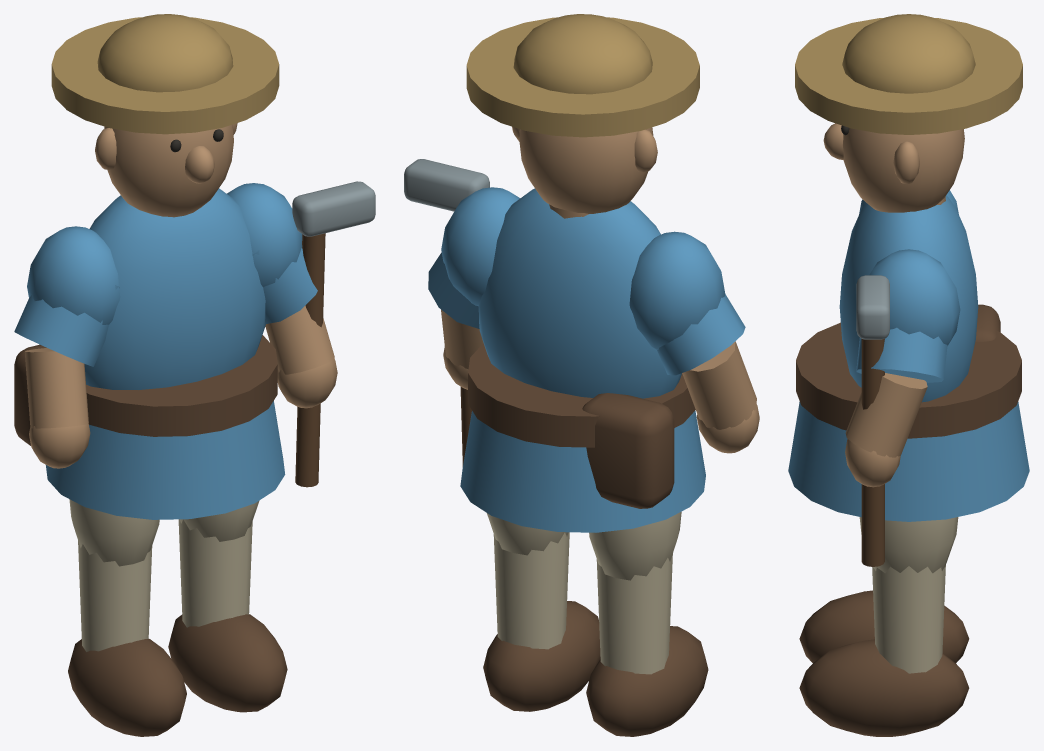
The model's file is villager.glb.
3 renders of one model, left to right at view 1: azimuth 30°, elevation 25°; view 2: azimuth 150°, elevation 25°; view 3: azimuth 270°, elevation 25°, orthographic. The views are drawn at different scales.
Visible parts, largest first — view 1: villager; view 2: villager; view 3: villager.
Part boxes in pixels (<box>): villager: <box>14,14,375,736</box>; villager: <box>404,14,759,736</box>; villager: <box>788,14,1029,736</box>.
Size of the model in its own units: 0.876 by 1.69 by 0.54.
